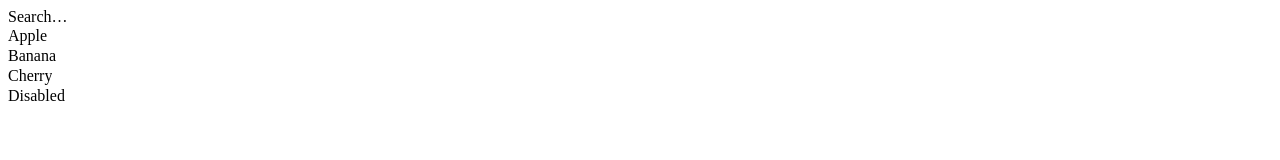
Test: CoarListbox › supports filterWith for full control
Type "c" into the field with placeholder "Search…" at {"x": 632, "y": 17}, box [8,8,1256,26]
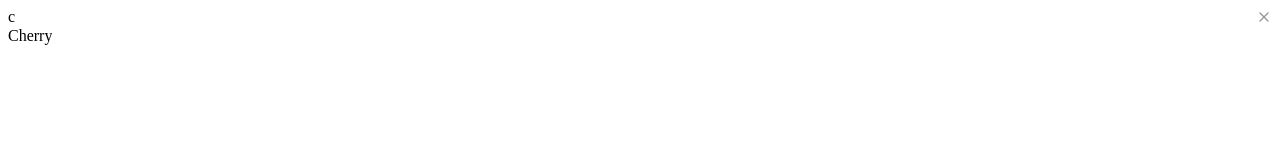
expect the option with class "coar-listbox-item" reads "Cherry": met, box [8,27,52,44]
expect the number of options with class "coar-listbox-item" is 1: met, box [8,27,52,44]
